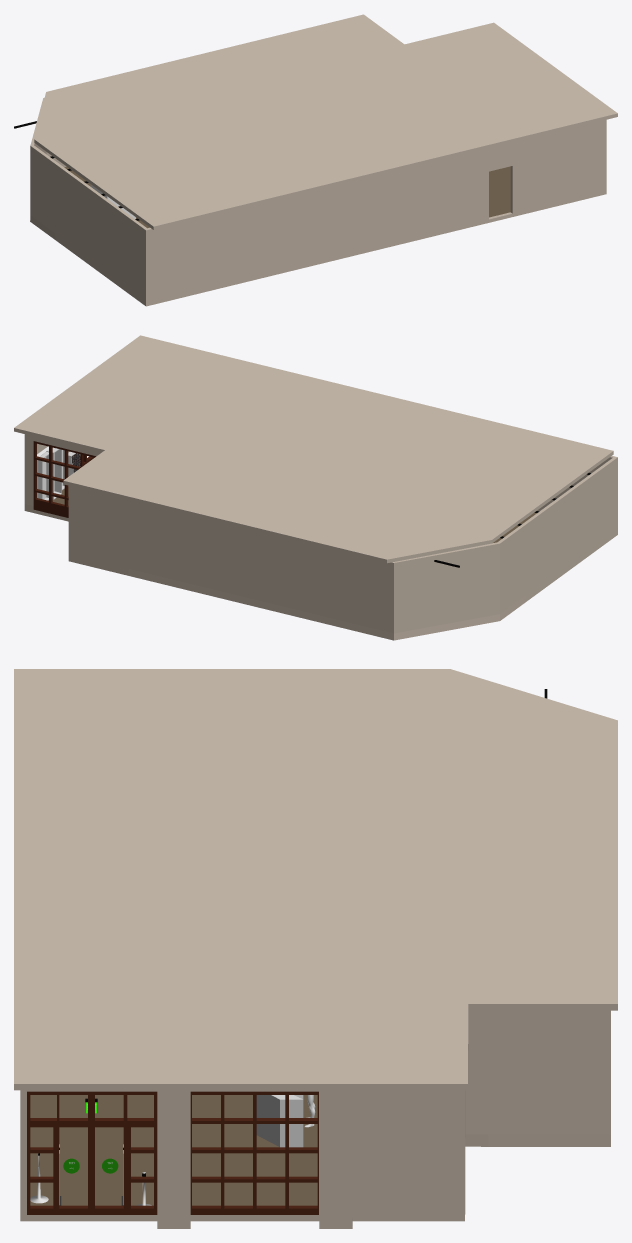
Rendered from Building1.glb.
3 views of the same model, one above another, from view 1: azimuth 30°, elevation 25°; view 2: azimuth 150°, elevation 25°; view 3: azimuth 270°, elevation 25° (orthographic). The views are drawn at different scales.
Parts seen in each view (by area): view 1: GiftShop; view 2: GiftShop; view 3: GiftShop.
Boxes of the visible parts, x1,y1,x2,y2 form: GiftShop: (14, 14, 617, 306); GiftShop: (14, 335, 617, 640); GiftShop: (14, 669, 617, 1228).
Size of what is drawn, in the model's own units: 20.79 by 3.37 by 12.63.
Materials: 38 (17 with a texture image).
